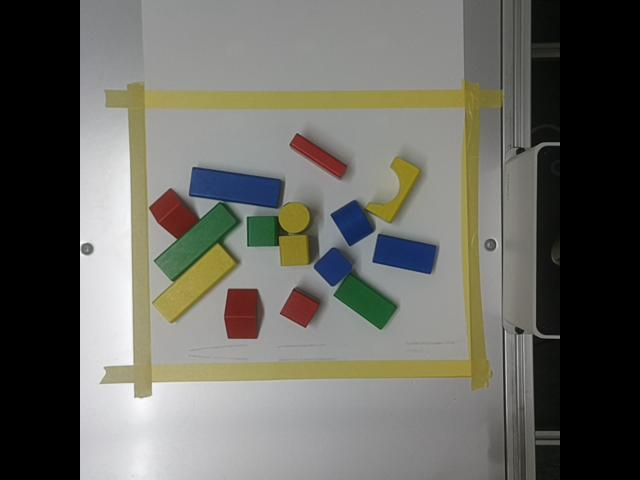blue_cube: (313, 247, 352, 285)
blue_longrect: (191, 168, 281, 206)
blue_rect: (374, 234, 437, 273)
cylinder: (280, 202, 310, 231)
green_cube: (248, 216, 279, 246)
green_longrect: (155, 201, 239, 281)
green_rect: (335, 274, 397, 329)
half_cylinder: (331, 199, 374, 245)
red_cube: (281, 289, 319, 326)
red_rect: (290, 133, 348, 177)
triangle: (149, 188, 199, 238), (226, 288, 258, 338)
yellow_archrect: (366, 156, 419, 222)
yellow_cube: (280, 236, 309, 265)
yellow_longrect: (153, 244, 237, 322)
